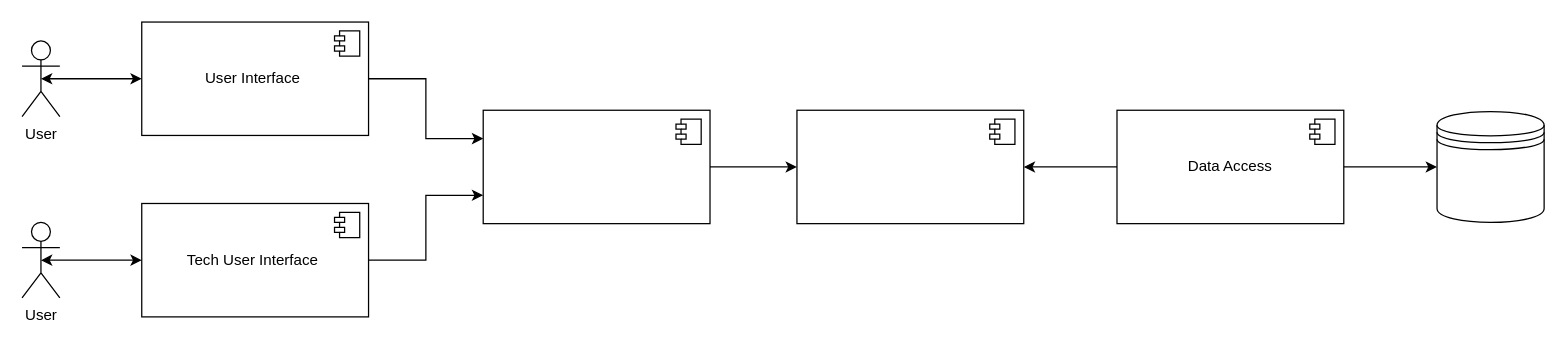
The diagram is 1566 pixels wide and 347 high, and some of its shapes have lost their labels. Here are the shapes that lost their labels. From the top down, the centre of each, then its label:
[596,166]: WebAPI
[910,166]: Business Logic
[1490,166]: Data Storage
